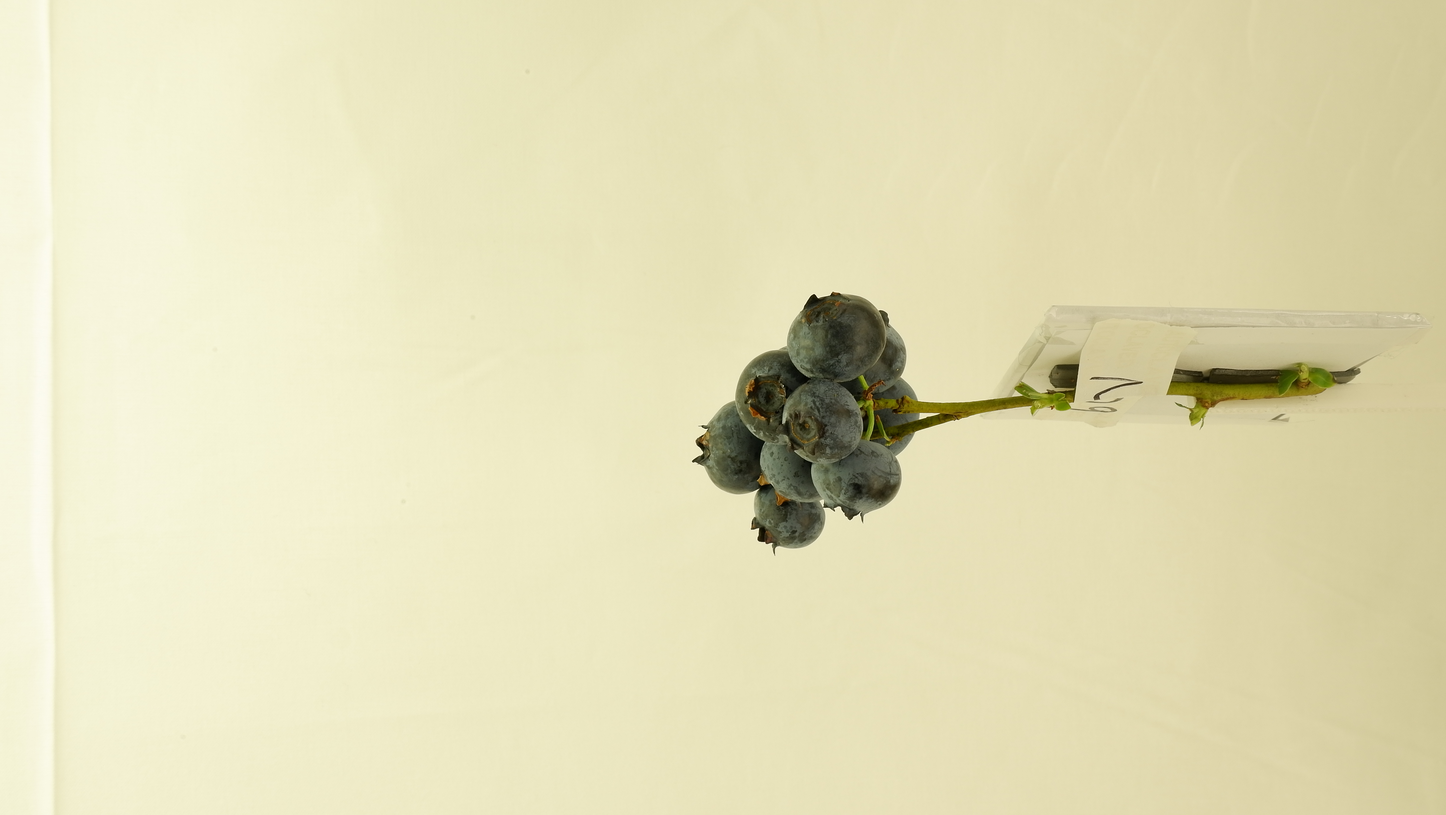Mature: (786, 291, 886, 383), (775, 380, 865, 464), (811, 440, 902, 523), (735, 349, 812, 446), (693, 400, 764, 496), (839, 309, 906, 397), (751, 483, 826, 556), (853, 377, 920, 455), (758, 441, 823, 508)
